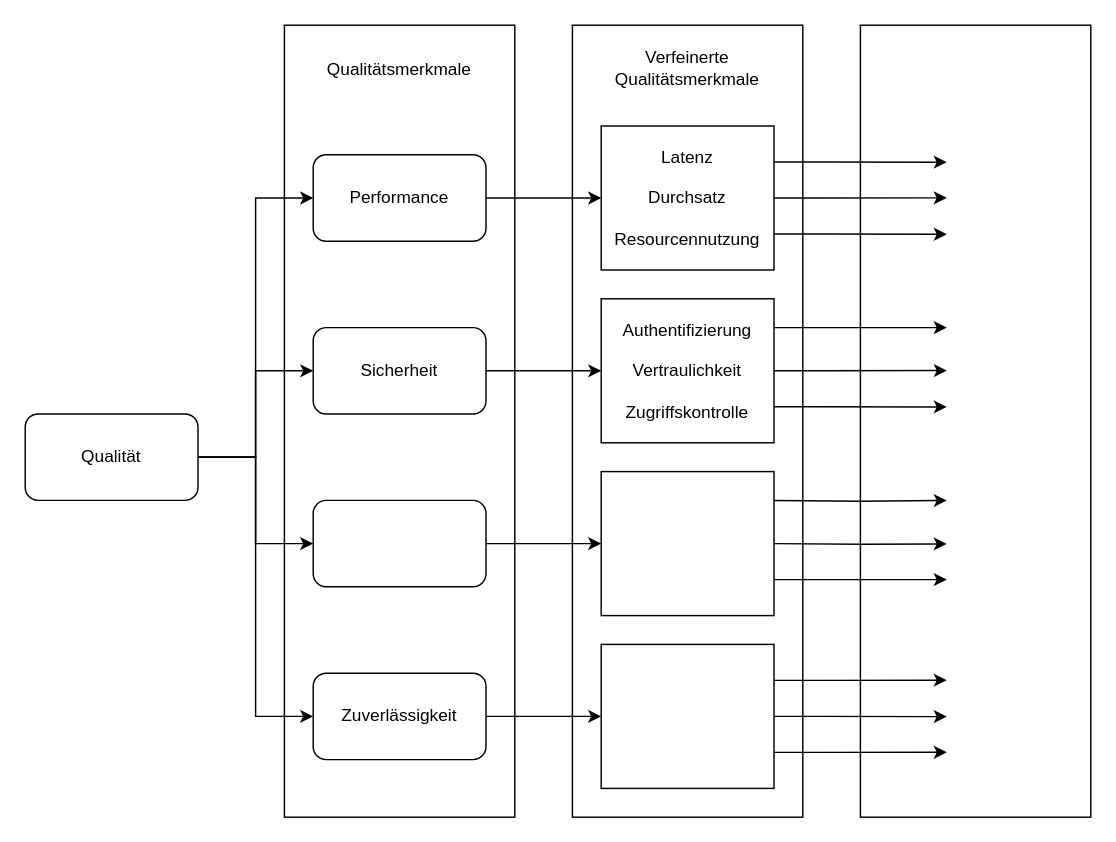
The diagram is 1116 pixels wide and 842 high, and some of its shapes have lost their labels. The centre of each missing label's shape, as x and y in pixels:
Benutzeroberfläche Reaktionsfähigkeit Hilfestellungen: point 687,543
Szenarien A1 A2 A3 B1 B2 B3 C1 C2 C3 D1 D2 D3: point 975,420
Usability: point 399,543
Verfügbarkeit Fehlertoleranz Widerherstellbarkeit: point 687,715
